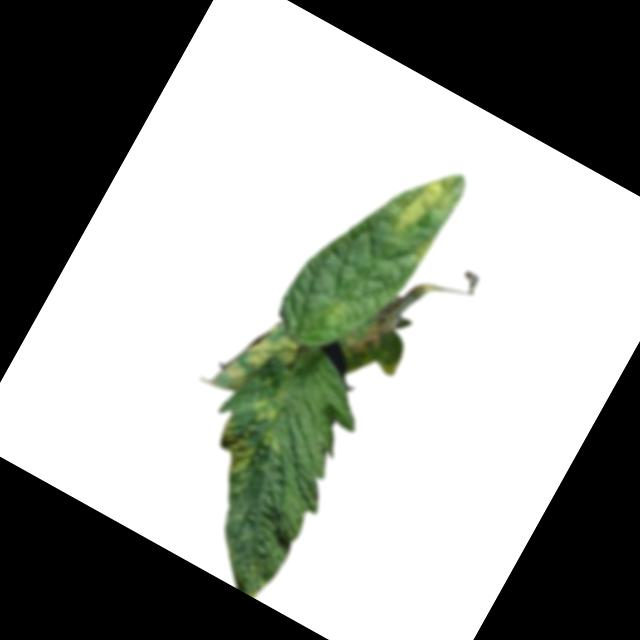Leaf_Mold: (202, 384, 301, 494), (377, 153, 472, 264), (217, 307, 310, 410), (338, 286, 410, 376)
